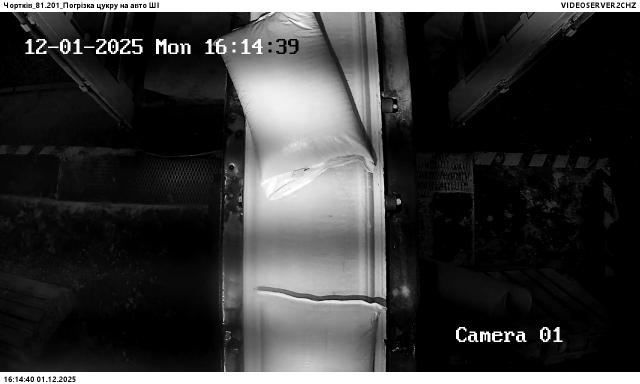bag: (213, 12, 376, 201), (255, 287, 386, 373)
